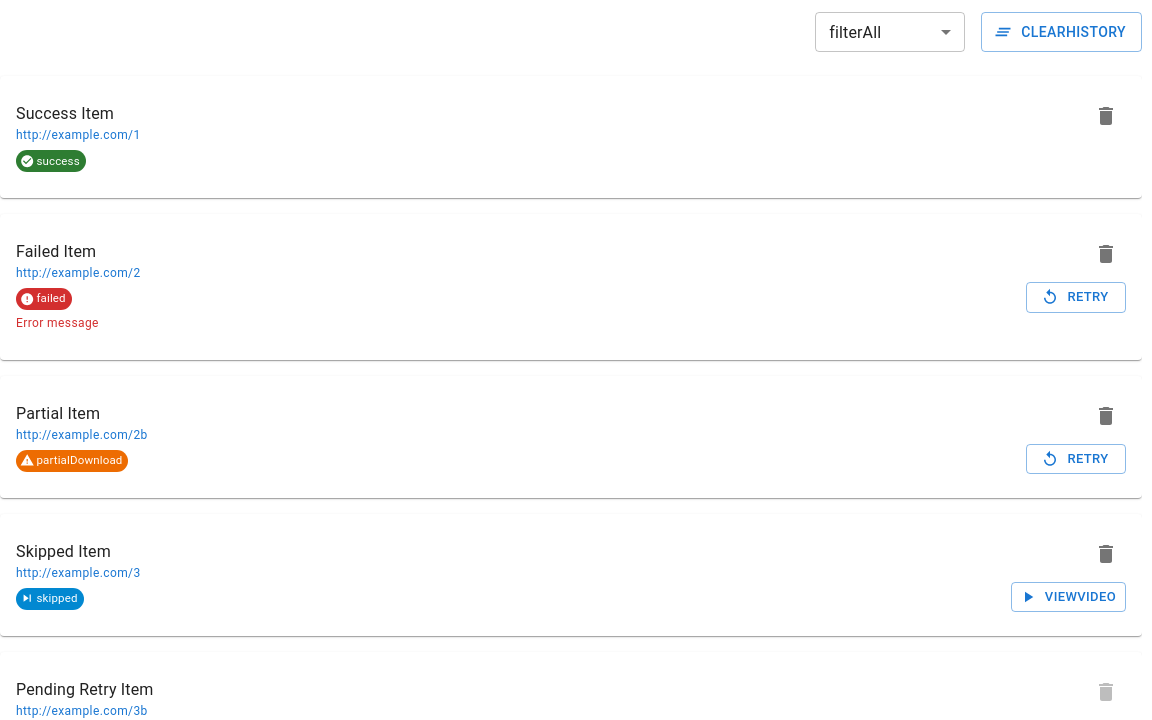
Test case: HistoryTab Filter › filters success items
Press the mouse on the dropdown at (855,32), box [829,22,881,42]
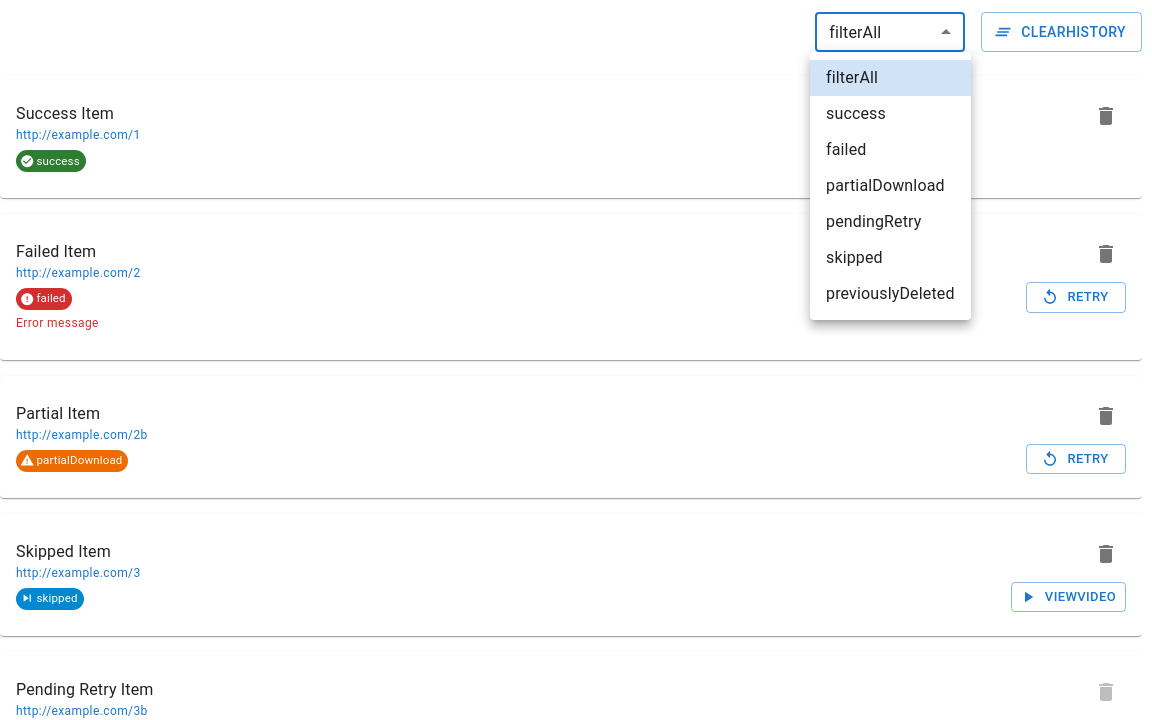
// Use getAllByText and pick the last one (usually the menu item) or scope it
Click the option "success".
click(856, 114)  # box [826,104,886,123]
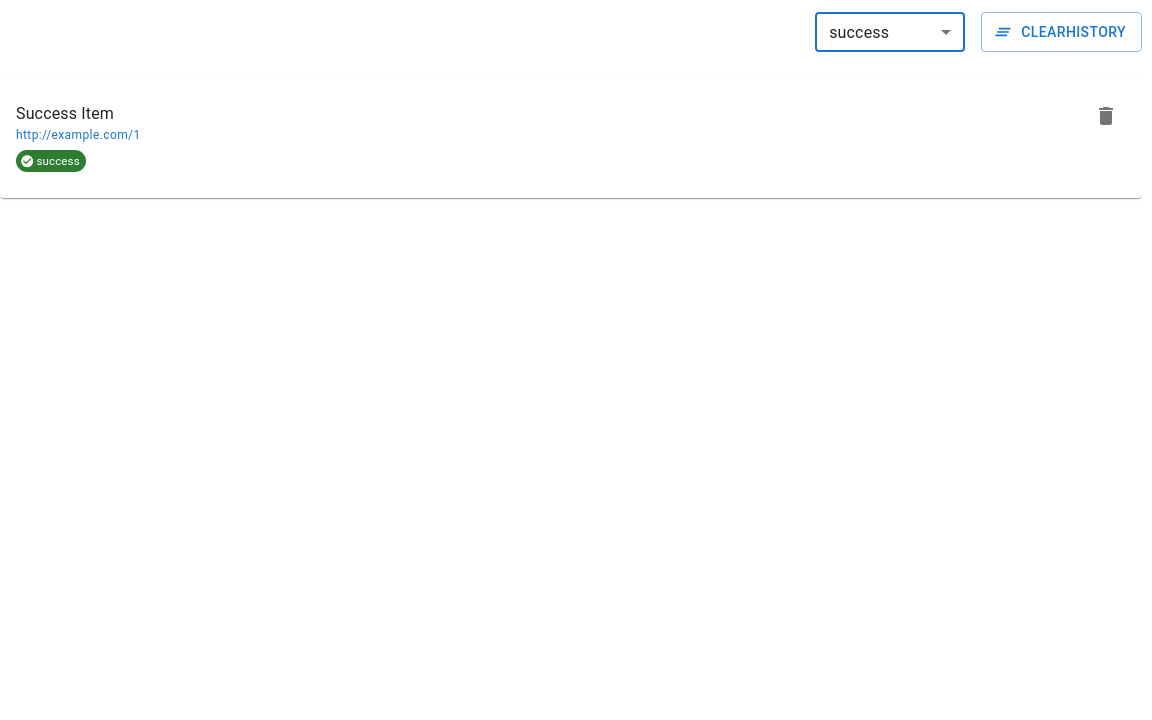
Expected: the text "Success Item" is shown, [16,104,114,123]
Result: the text "Failed Item" is gone
Result: the text "Skipped Item" is gone
